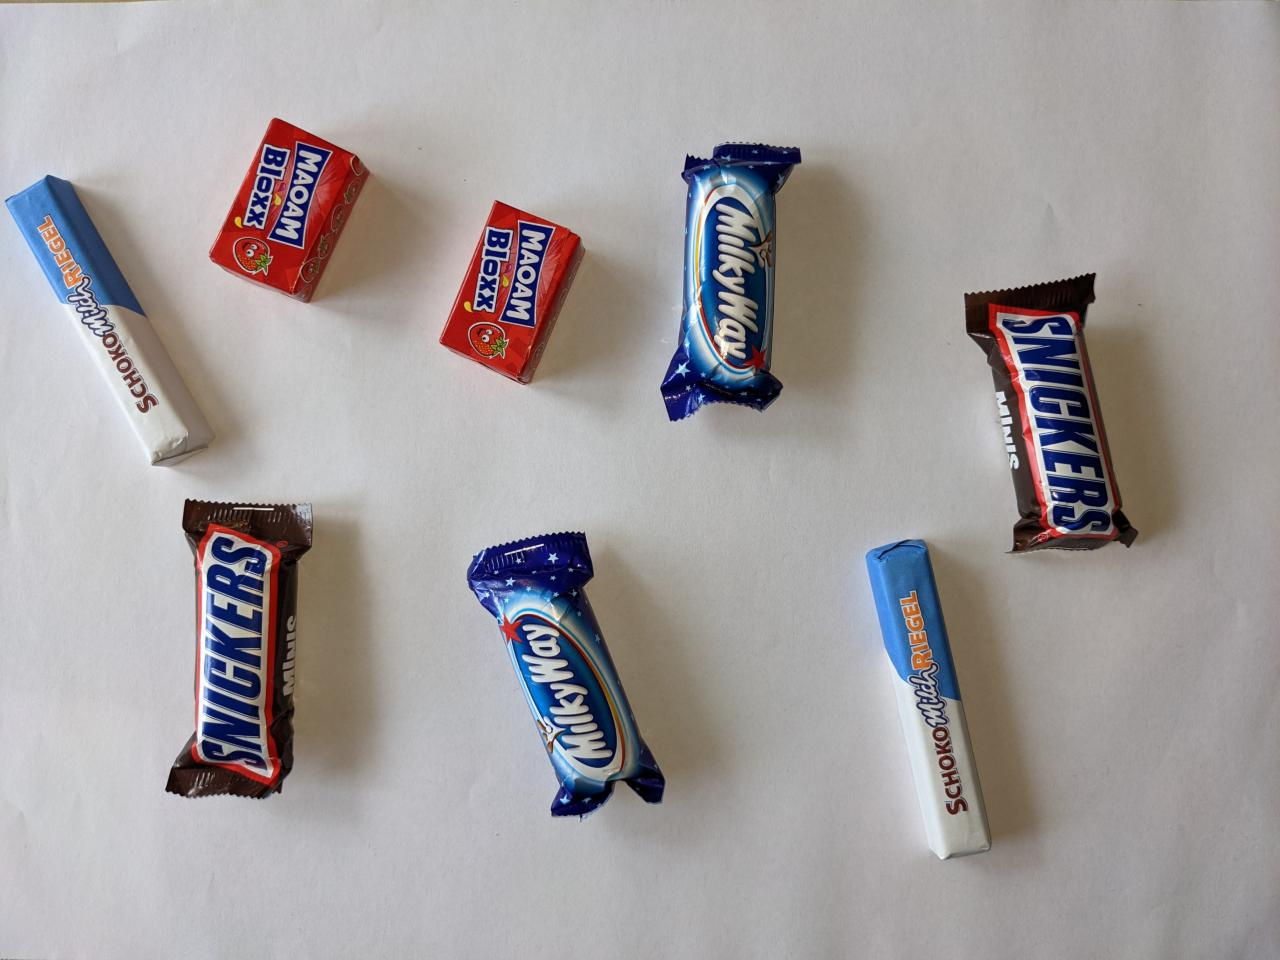MAOAM: (428, 189, 600, 397), (203, 109, 380, 308)
MilkyWay: (461, 526, 674, 831), (653, 133, 814, 430)
Schokoriegel: (1, 165, 220, 475), (858, 532, 1001, 871)
Snickers: (955, 265, 1150, 565), (154, 492, 322, 810)
